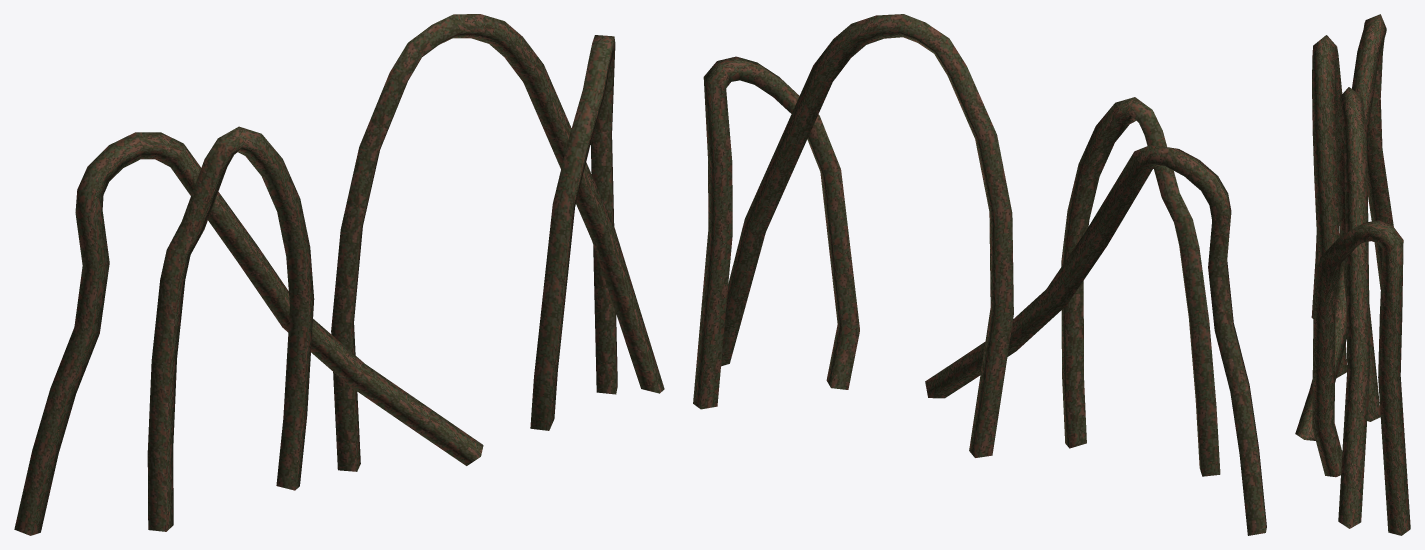
Rendered from SwampFence3.fbx.
3 renders of one model, left to right at view 1: azimuth 30°, elevation 25°; view 2: azimuth 150°, elevation 25°; view 3: azimuth 270°, elevation 25°, orthographic. The views are drawn at different scales.
Parts seen in each view (by area): view 1: SwampFence3; view 2: SwampFence3; view 3: SwampFence3.
Boxes of the visible parts, <box> form: SwampFence3: <box>14,14,664,535</box>; SwampFence3: <box>693,14,1266,535</box>; SwampFence3: <box>1295,14,1410,535</box>.
Bounding box in the file's own units: 1709 × 1158 × 332.
